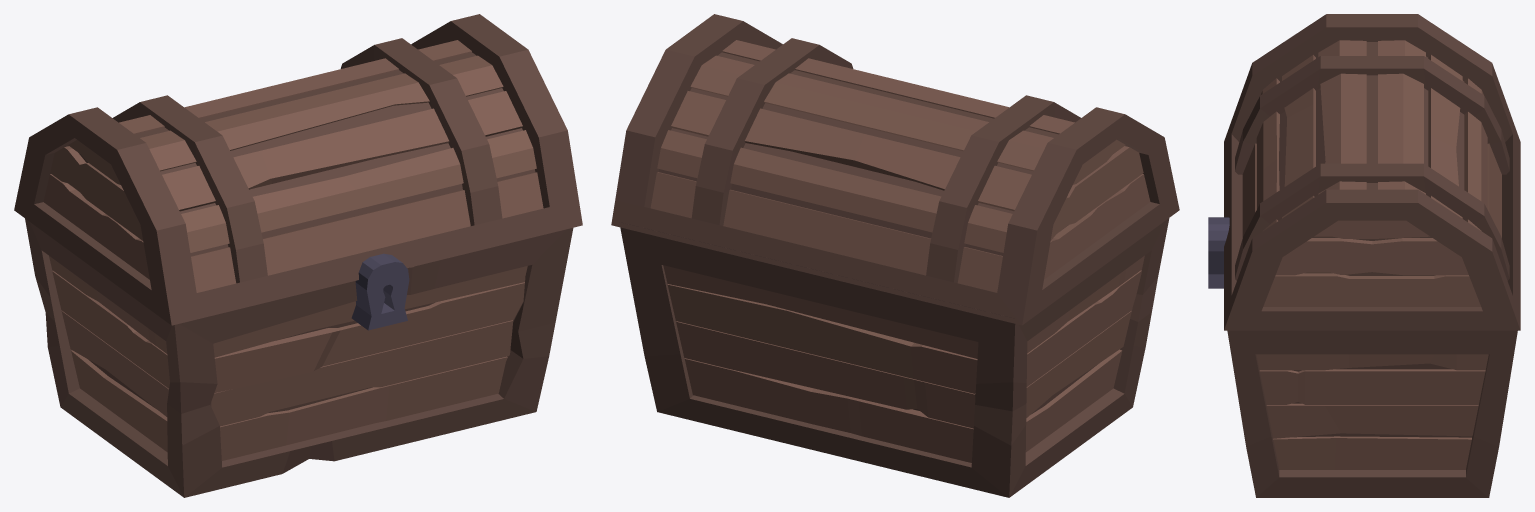
File: chest.glb
3 views of the same model, side by side, from view 1: azimuth 30°, elevation 25°; view 2: azimuth 150°, elevation 25°; view 3: azimuth 270°, elevation 25° (orthographic). The views are drawn at different scales.
Parts seen in each view (by area): view 1: Chest_Top, Chest_Base; view 2: Chest_Top, Chest_Base; view 3: Chest_Top, Chest_Base.
Boxes of the visible parts, x1=… form: Chest_Top: x1=14, y1=14, x2=582, y2=325; Chest_Base: x1=25, y1=218, x2=573, y2=497; Chest_Top: x1=611, y1=14, x2=1179, y2=325; Chest_Base: x1=620, y1=218, x2=1169, y2=497; Chest_Top: x1=1224, y1=14, x2=1520, y2=330; Chest_Base: x1=1208, y1=217, x2=1517, y2=497.
Bounding box in the file's own units: 1.18 × 0.8986 × 0.8237.
